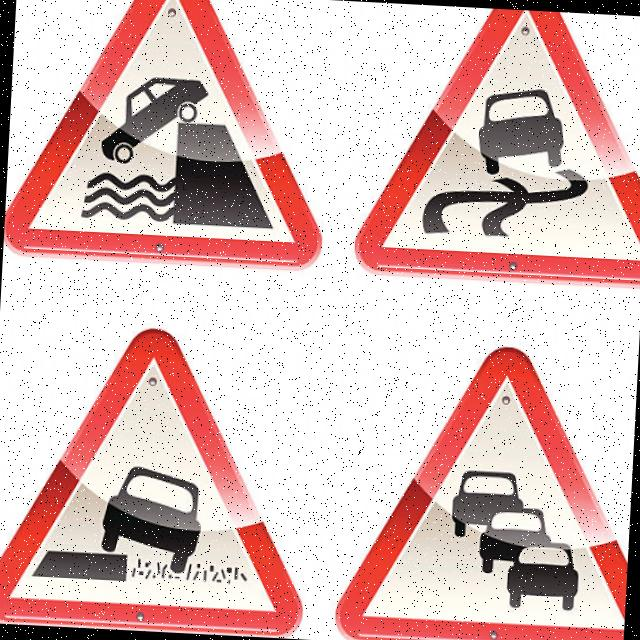road_slippery: (350, 2, 640, 292)
